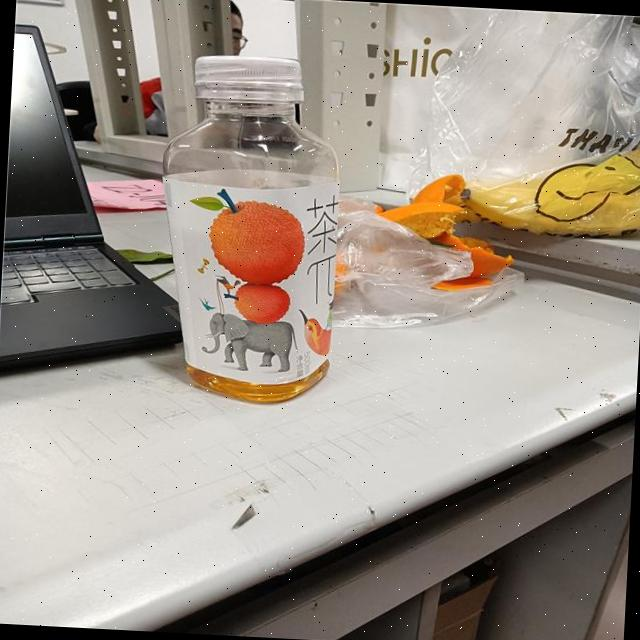orange-peel: (340, 168, 506, 308), (205, 196, 307, 286)
